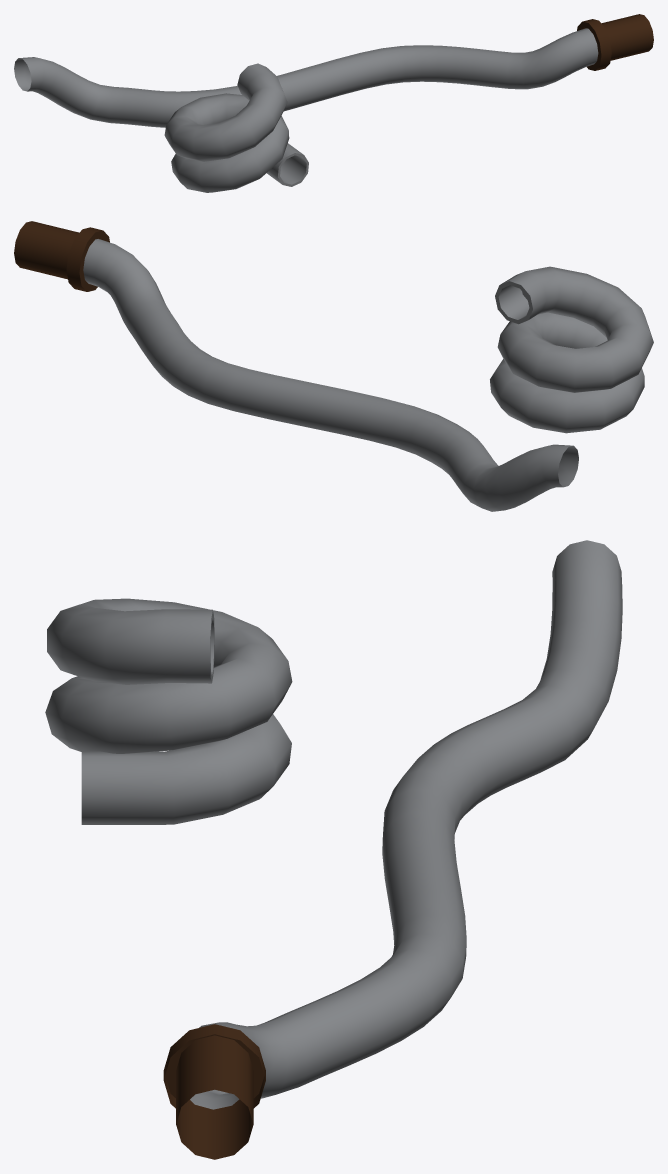
The model's file is Hose.fbx.
The picture shows the model from 3 angles, top to bottom: view 1: azimuth 30°, elevation 25°; view 2: azimuth 150°, elevation 25°; view 3: azimuth 270°, elevation 25°; orthographic projection. The views are drawn at different scales.
Parts seen in each view (by area): view 1: BézierCurve.099, Spiral.003, Generator_Body.012; view 2: BézierCurve.099, Spiral.003, Generator_Body.012; view 3: BézierCurve.099, Spiral.003, Generator_Body.012.
Boxes of the visible parts, bbox=[...] form: BézierCurve.099: bbox=[14, 28, 598, 127]; Spiral.003: bbox=[164, 63, 308, 192]; Generator_Body.012: bbox=[577, 14, 653, 70]; BézierCurve.099: bbox=[83, 239, 578, 511]; Spiral.003: bbox=[490, 266, 653, 433]; Generator_Body.012: bbox=[14, 221, 109, 291]; BézierCurve.099: bbox=[190, 540, 622, 1109]; Spiral.003: bbox=[45, 598, 292, 824]; Generator_Body.012: bbox=[163, 1024, 265, 1159].
Size of the model in its own units: 529 by 98.61 by 250.
